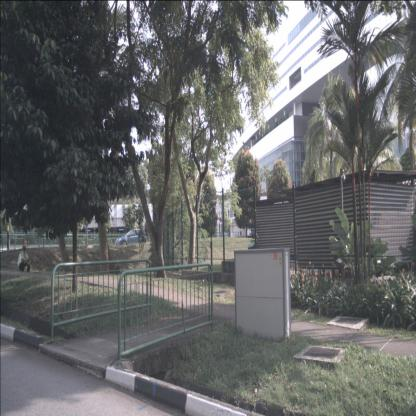human-pedestrian-adult: (18, 246, 30, 274)
vehicle-car: (115, 228, 147, 249)
